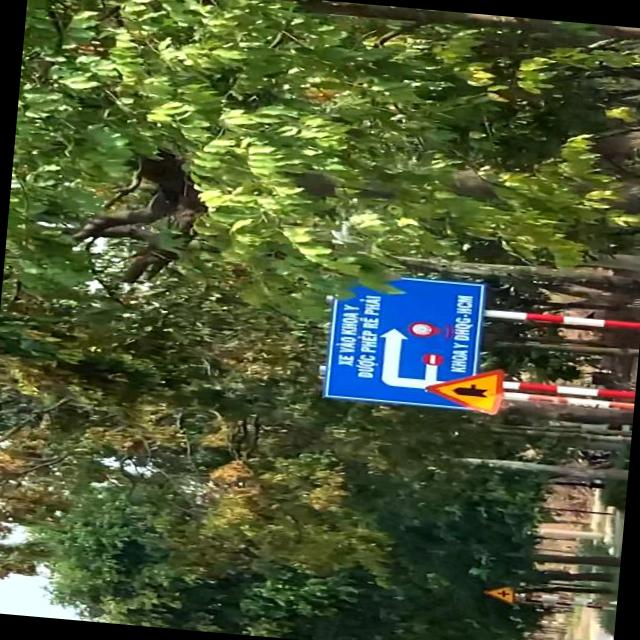W-205a: (486, 581, 518, 607)
W-207b: (419, 362, 505, 415)
